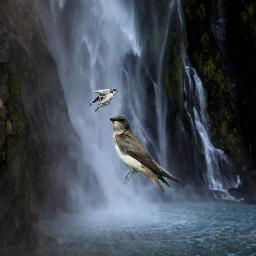Swallow: (109, 115, 182, 195), (87, 88, 118, 112)
